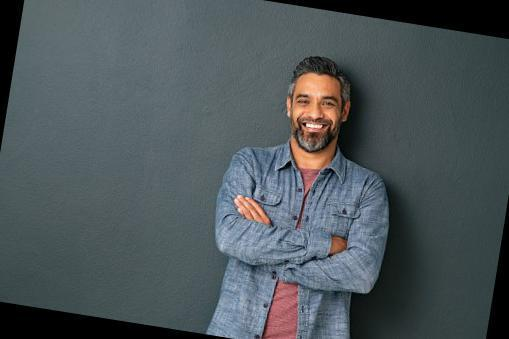Sober: (293, 73, 337, 148)
